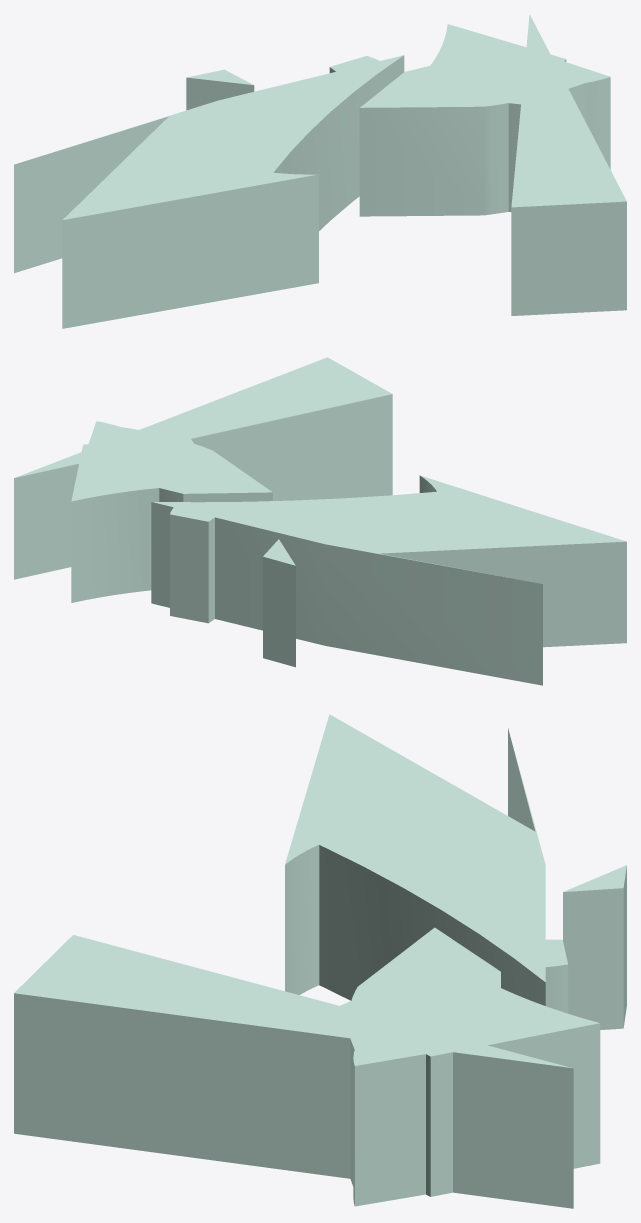
3 views of the same model, one above another, from view 1: azimuth 30°, elevation 25°; view 2: azimuth 150°, elevation 25°; view 3: azimuth 270°, elevation 25° (orthographic). The views are drawn at different scales.
Parts seen in each view (by area): view 1: Renderer Node; view 2: Renderer Node; view 3: Renderer Node.
Boxes of the visible parts, x1,y1,x2,y2 form: Renderer Node: [14, 14, 626, 328]; Renderer Node: [14, 357, 626, 685]; Renderer Node: [14, 714, 626, 1208].
Size of the model in its own units: 1.22 by 0.2266 by 0.896.
